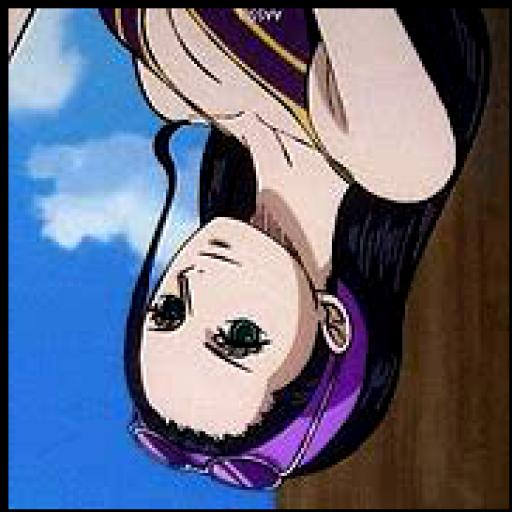NicoRobin: (93, 8, 483, 484)
